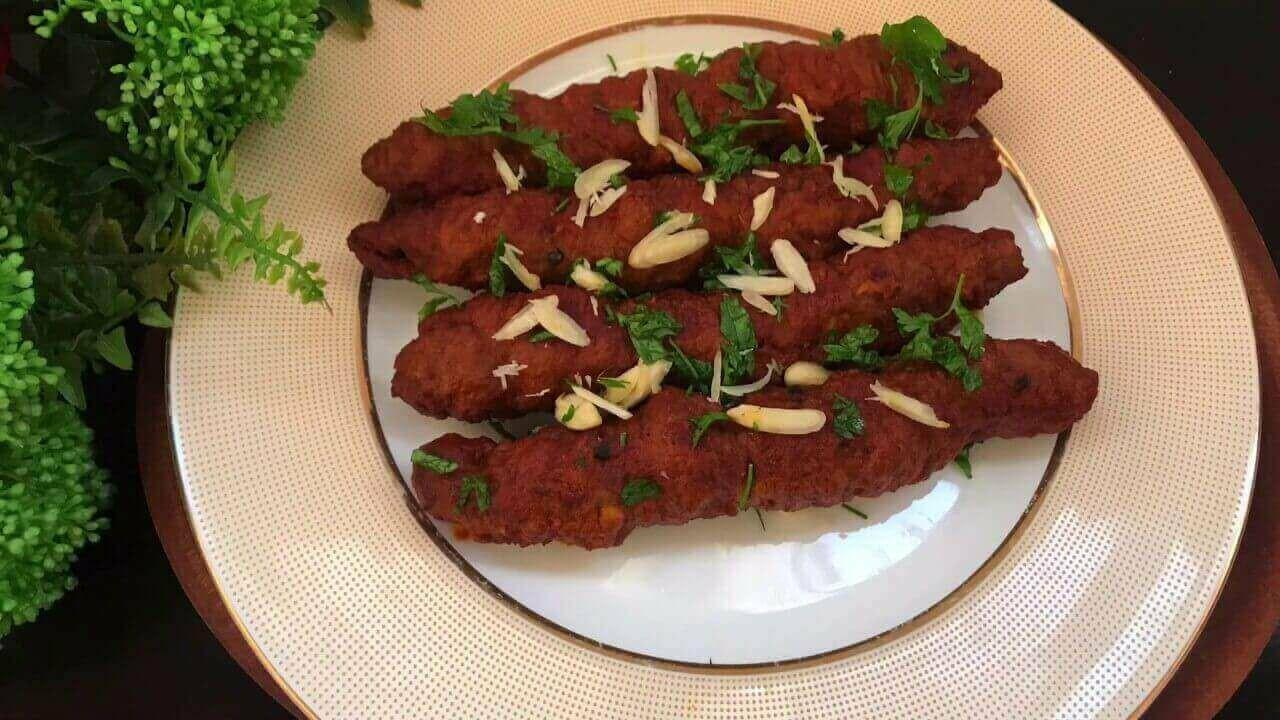Kebab: (412, 339, 1098, 549), (391, 225, 1031, 422), (357, 15, 1003, 197), (345, 137, 1001, 287)
